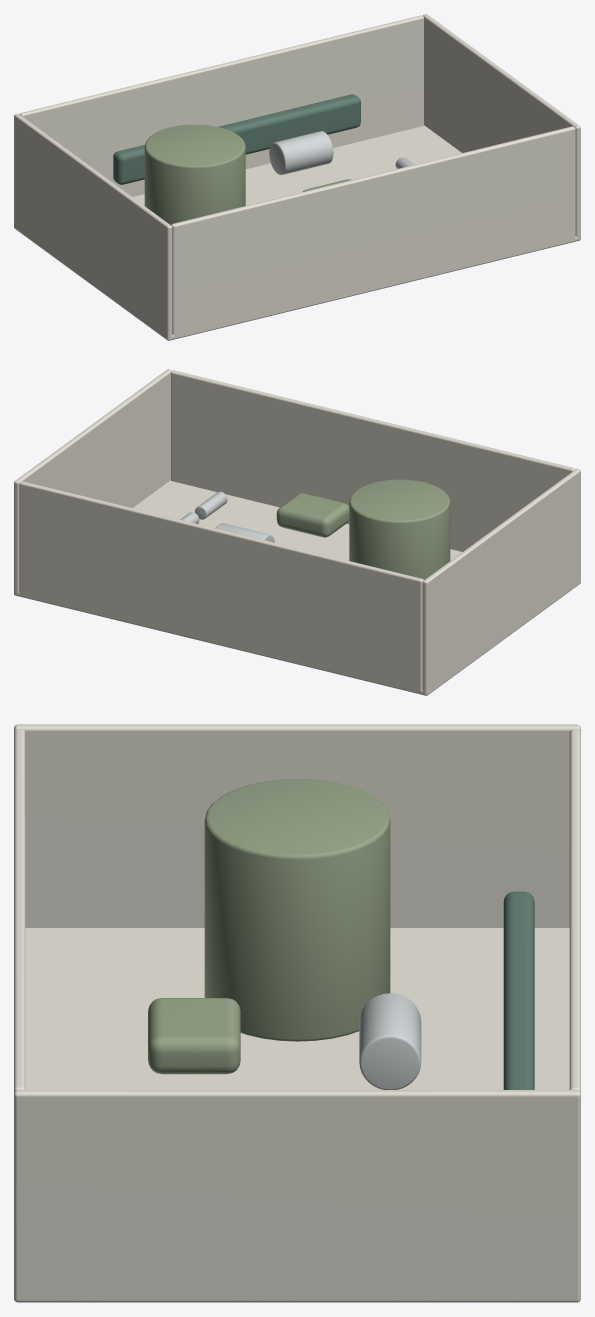
Rendered from repair.glb.
The picture shows the model from 3 angles, top to bottom: view 1: azimuth 30°, elevation 25°; view 2: azimuth 150°, elevation 25°; view 3: azimuth 270°, elevation 25°; orthographic projection. The views are drawn at different scales.
Parts seen in each view (by area): view 1: Service-parts box front, Service-parts box back, Service-parts box left, Service-parts box right, HA-01 coupler, Service-parts box floor, Blade service insert, Spring exterior proxy; view 2: Service-parts box back, Service-parts box front, Service-parts box left, Service-parts box right, HA-01 coupler, Service-parts box floor, Release button, M3 service screw, Spring exterior proxy; view 3: Service-parts box right, Service-parts box left, Service-parts box floor, HA-01 coupler, Release button, Blade service insert, Spring exterior proxy, Service-parts box back, Service-parts box front.
Part boxes in pixels (x1,y1,x2,y2): Service-parts box front: (171, 126, 575, 339); Service-parts box back: (19, 15, 423, 196); Service-parts box left: (14, 113, 172, 340); Service-parts box right: (423, 14, 580, 240); HA-01 coupler: (144, 124, 245, 224); Service-parts box floor: (81, 125, 579, 340); Blade service insert: (113, 94, 360, 184); Spring exterior proxy: (269, 131, 333, 175); Service-parts box back: (19, 481, 423, 694); Service-parts box front: (171, 370, 575, 551); Service-parts box left: (422, 468, 580, 695); Service-parts box right: (14, 369, 171, 595); HA-01 coupler: (349, 479, 450, 579); Service-parts box floor: (14, 480, 462, 695); Release button: (276, 493, 349, 537); M3 service screw: (195, 491, 227, 519); Spring exterior proxy: (216, 523, 274, 542); Service-parts box right: (14, 1090, 580, 1302); Service-parts box left: (14, 724, 580, 927); Service-parts box floor: (15, 928, 578, 1302); HA-01 coupler: (204, 779, 390, 1041); Release button: (148, 998, 240, 1074); Blade service insert: (503, 891, 534, 1089); Spring exterior proxy: (359, 993, 421, 1089); Service-parts box back: (569, 729, 580, 1092); Service-parts box front: (14, 729, 25, 1092).
Bounding box in the file's own units: 0.17 × 0.045 × 0.11.
